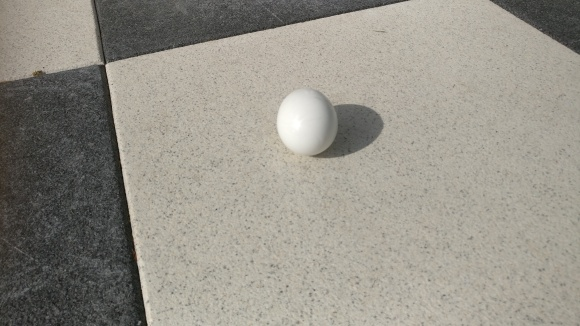egg: (275, 87, 338, 157)
